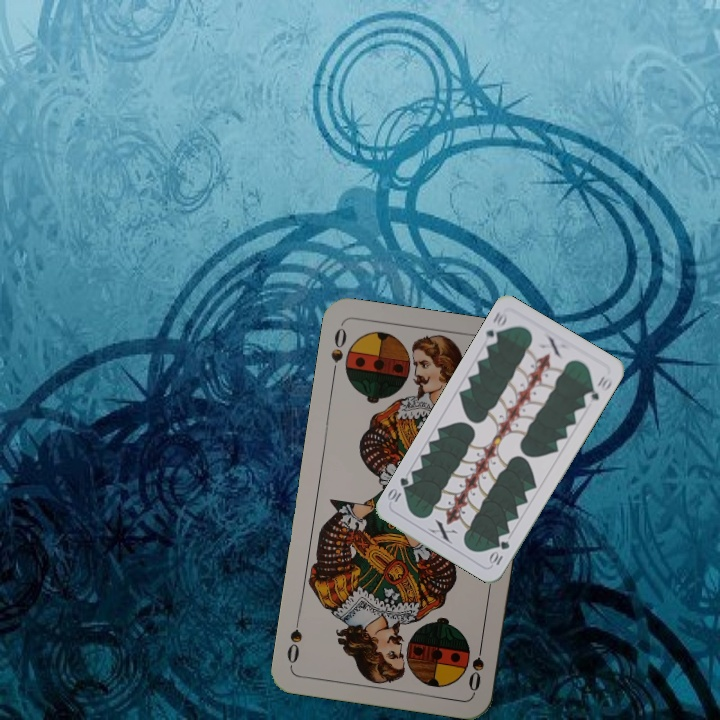G10: (481, 307, 510, 348), (486, 537, 512, 568)
SO: (464, 635, 487, 694), (327, 323, 349, 380)
